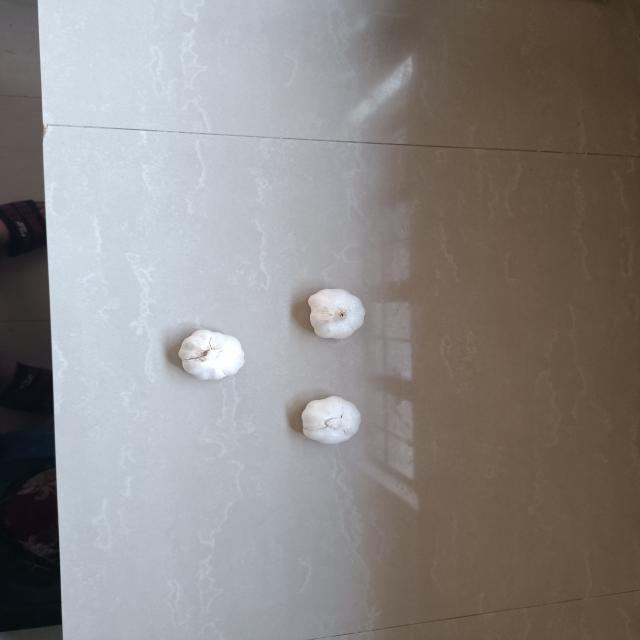garlic: (177, 328, 248, 383), (298, 394, 368, 448), (304, 287, 367, 341)
